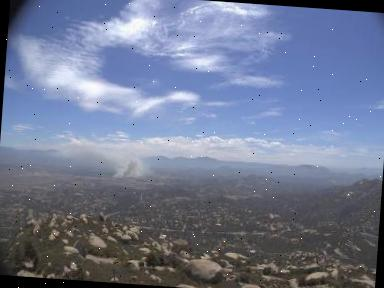smoke: (58, 137, 150, 183)
